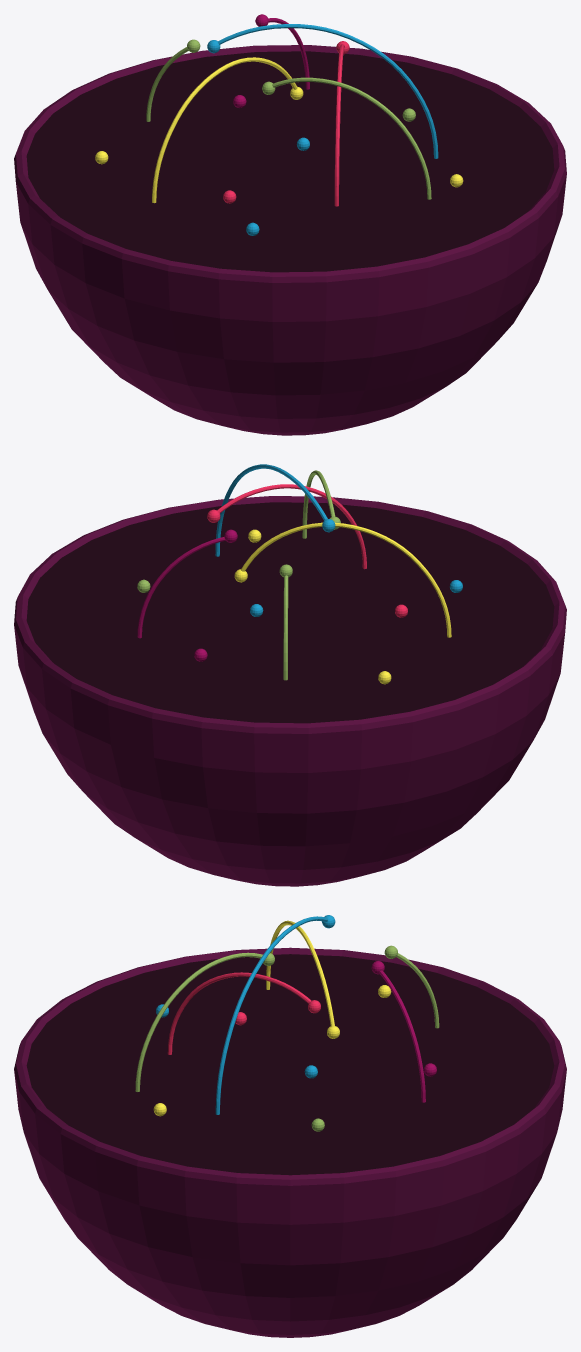
Rendered from icon-infodive-2.dae.
The picture shows the model from 3 angles, top to bottom: view 1: azimuth 30°, elevation 25°; view 2: azimuth 150°, elevation 25°; view 3: azimuth 270°, elevation 25°; orthographic projection.
Visible parts, largest first — view 1: surface, base, Sphere.1 (×6); view 2: surface, base, Sphere.1 (×6); view 3: surface, base, Sphere.1 (×6).
Part boxes in pixels (<box>): surface: <box>26,51,554,272</box>; base: <box>14,45,566,435</box>; Sphere.1 (×6): <box>146,14,438,206</box>; surface: <box>26,502,554,723</box>; base: <box>14,496,566,886</box>; Sphere.1 (×6): <box>137,464,451,680</box>; surface: <box>26,954,554,1175</box>; base: <box>14,947,566,1337</box>; Sphere.1 (×6): <box>135,915,439,1114</box>.
Size of the model in its own units: 199 by 153 by 199.
